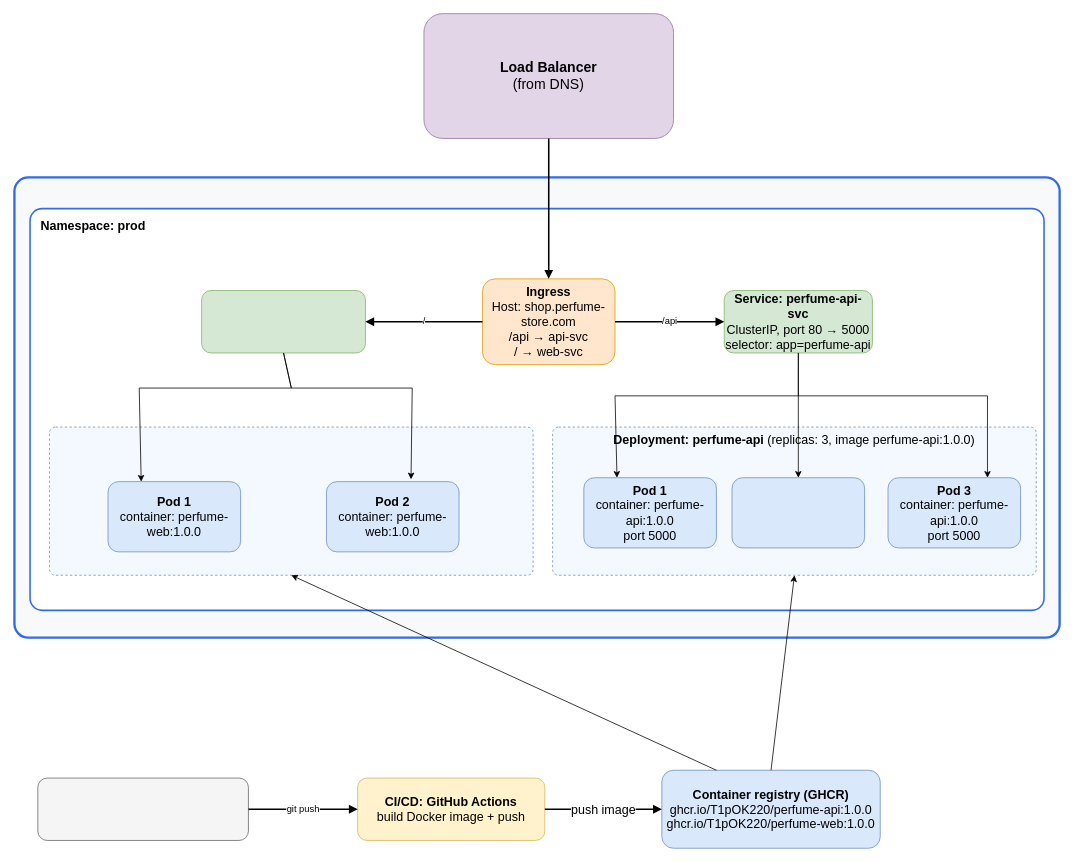
The diagram is 1074 pixels wide and 862 high, and some of its shapes have lost their labels. The box of each missing label's shape, as (x1, y1, x2, y2) in pixels:
Deployment: perfume-web (replicas: 2, image perfume-web:1.0.0): (49, 426, 533, 575)
git github.com/T1pOK220/parfumes-store: (37, 777, 248, 840)
Kubernetes cluster: (13, 176, 1060, 638)
Pod 2 container: perfume-api:1.0.0 port 5000: (731, 477, 865, 548)
Service: perfume-web-svc ClusterIP, port 80 selector: app=perfume-web: (201, 290, 365, 353)
